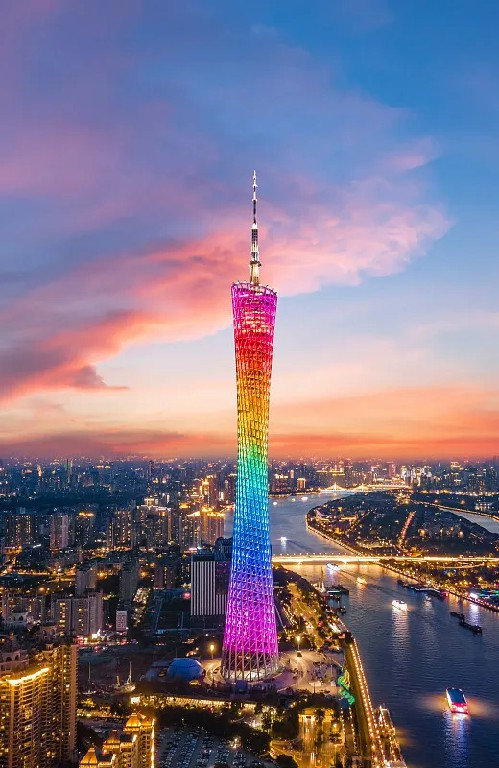Canton: (217, 164, 288, 685)
